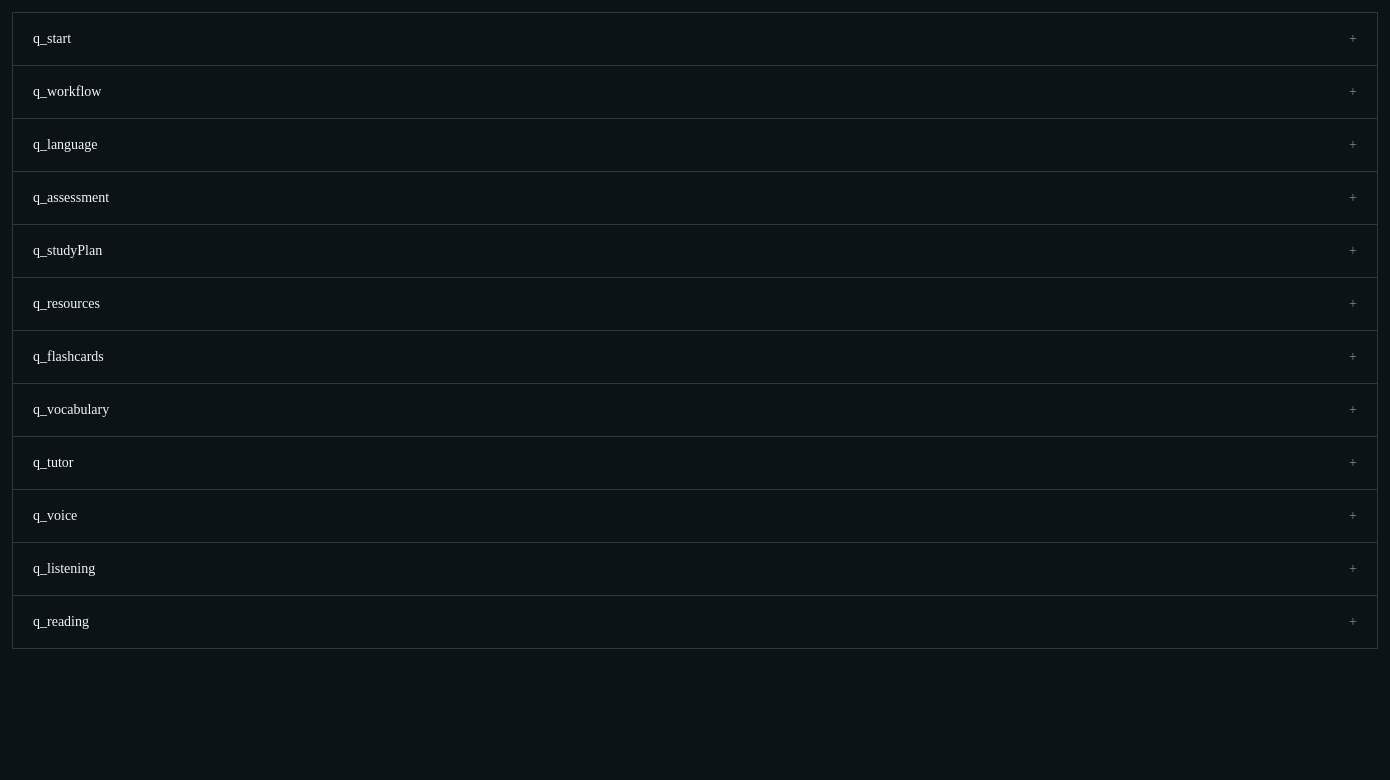
Test: LandingFAQ › opens a rich answer and closes it when the same question is selected again
Click the button "q_start +" at (52, 38), box [13,13,1377,65]
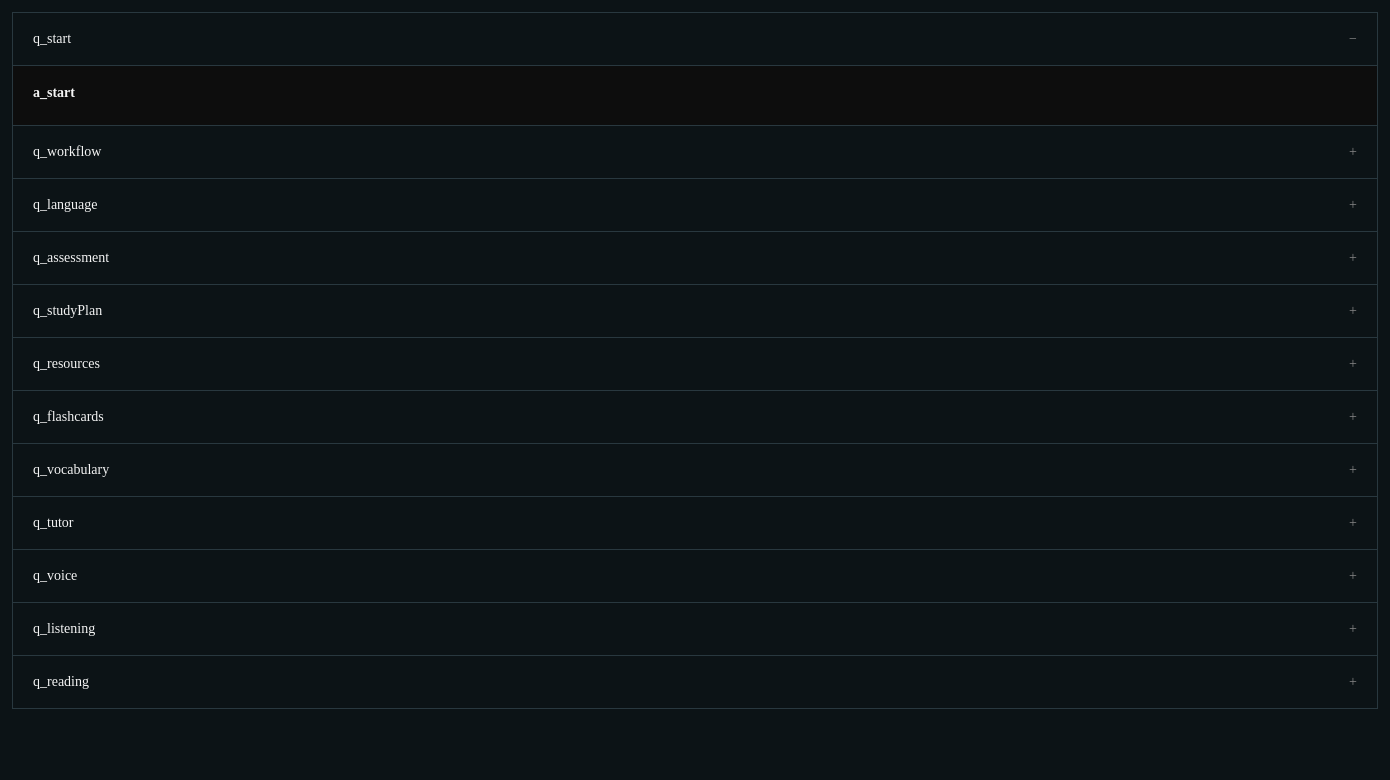
Expected: the text "a_start" is shown, [33,85,75,100]
Expected: the button "q_start −" is shown
Click the button "q_start −" at (52, 38), box [13,13,1377,65]
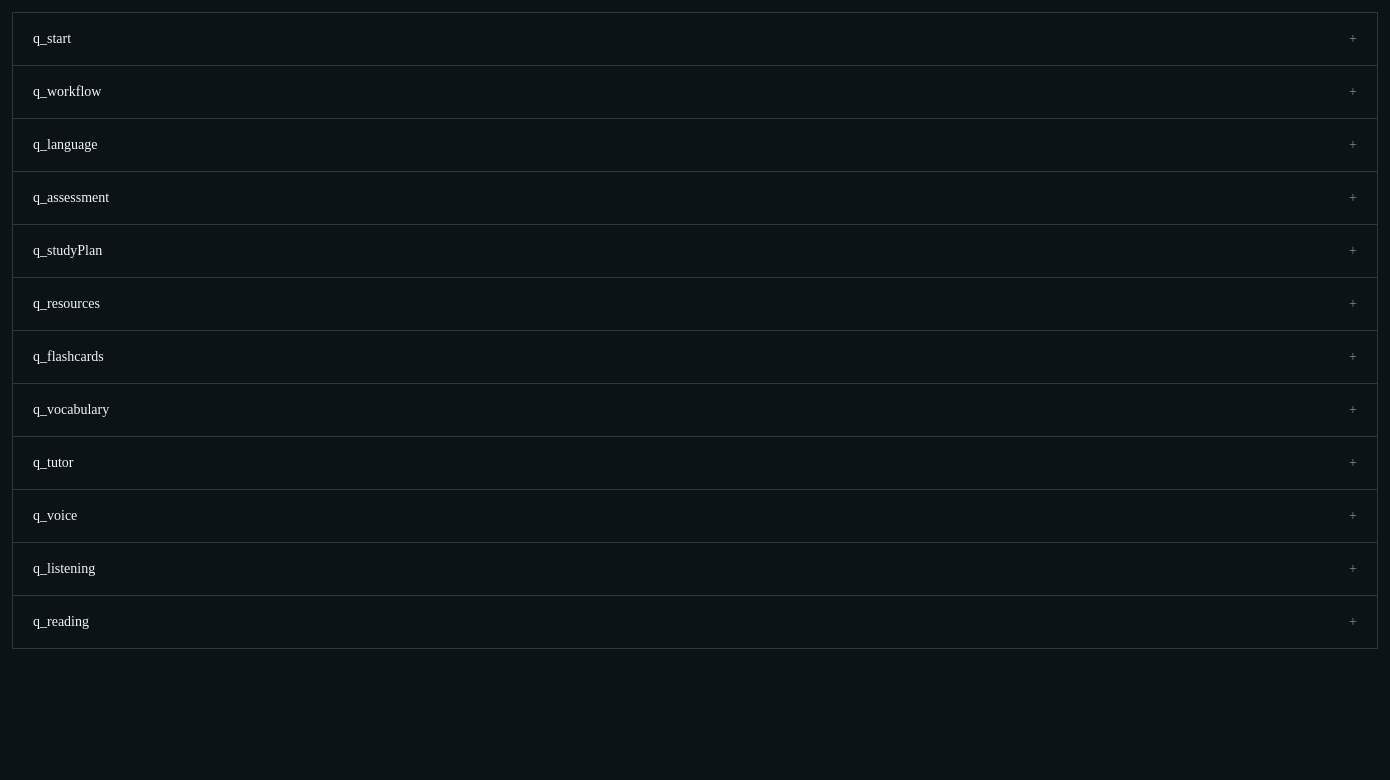
Expected: the text "a_start" is gone
Expected: the button "q_start +" is shown, [13,13,1377,65]
